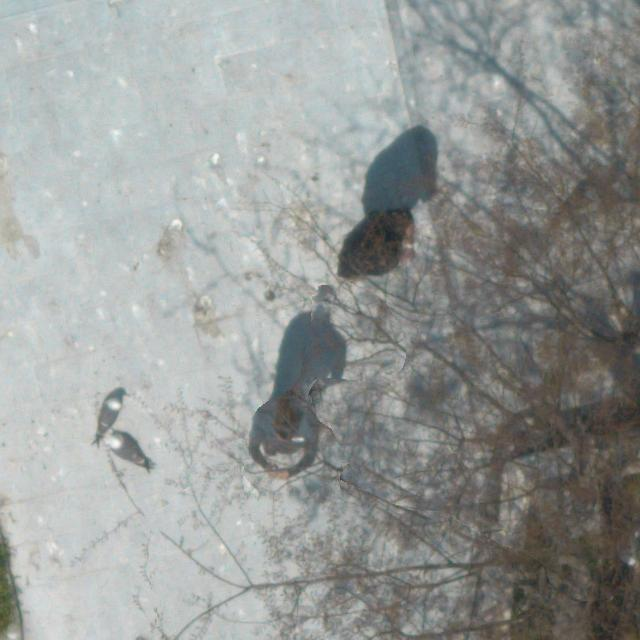umineko: (91, 395, 122, 445), (105, 436, 150, 469)
